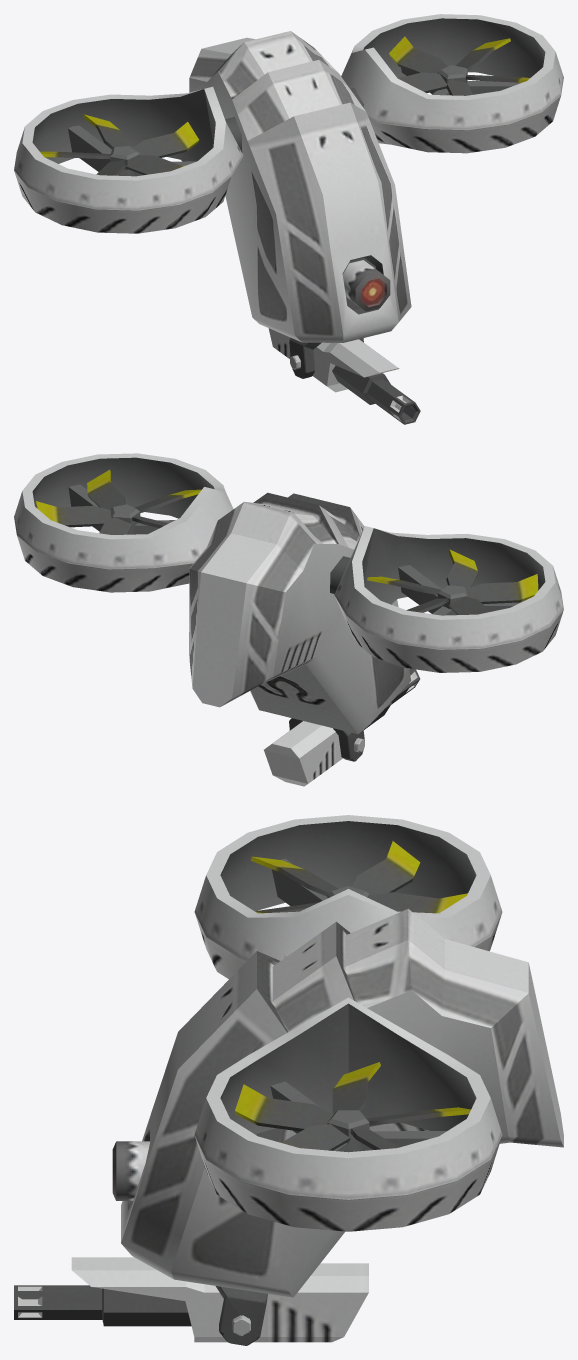
Rendered from Drone.fbx.
The picture shows the model from 3 angles, top to bottom: view 1: azimuth 30°, elevation 25°; view 2: azimuth 150°, elevation 25°; view 3: azimuth 270°, elevation 25°; orthographic projection. The views are drawn at different scales.
Visible parts, largest first — view 1: Body, Blade_Cover_2, Blade_Cover_1, Gun, Blade_2, Blade_1, Hook; view 2: Body, Blade_Cover_2, Blade_Cover_1, Gun, Blade_2, Blade_1, Hook; view 3: Body, Blade_Cover_1, Blade_Cover_2, Gun, Blade_1, Blade_2, Hook.
Part boxes in pixels (bbox=[...]): Body: bbox=[189, 31, 411, 342]; Blade_Cover_2: bbox=[14, 86, 243, 233]; Blade_Cover_1: bbox=[341, 14, 563, 153]; Gun: bbox=[268, 328, 420, 424]; Blade_2: bbox=[40, 114, 199, 175]; Blade_1: bbox=[389, 36, 529, 95]; Hook: bbox=[289, 338, 363, 378]; Body: bbox=[189, 492, 411, 734]; Blade_Cover_2: bbox=[334, 526, 563, 672]; Blade_Cover_1: bbox=[14, 453, 233, 592]; Gun: bbox=[264, 668, 420, 786]; Blade_2: bbox=[367, 549, 538, 614]; Blade_1: bbox=[35, 469, 201, 534]; Hook: bbox=[289, 718, 364, 761]; Body: bbox=[112, 908, 563, 1297]; Blade_Cover_1: bbox=[194, 997, 502, 1231]; Blade_Cover_2: bbox=[194, 815, 502, 978]; Gun: bbox=[14, 1257, 368, 1342]; Blade_1: bbox=[235, 1062, 470, 1150]; Blade_2: bbox=[250, 841, 467, 913]; Hook: bbox=[215, 1286, 267, 1345].
Size of the model in its own units: 168 by 91.52 by 111.
Materials: 1 (1 with a texture image).
